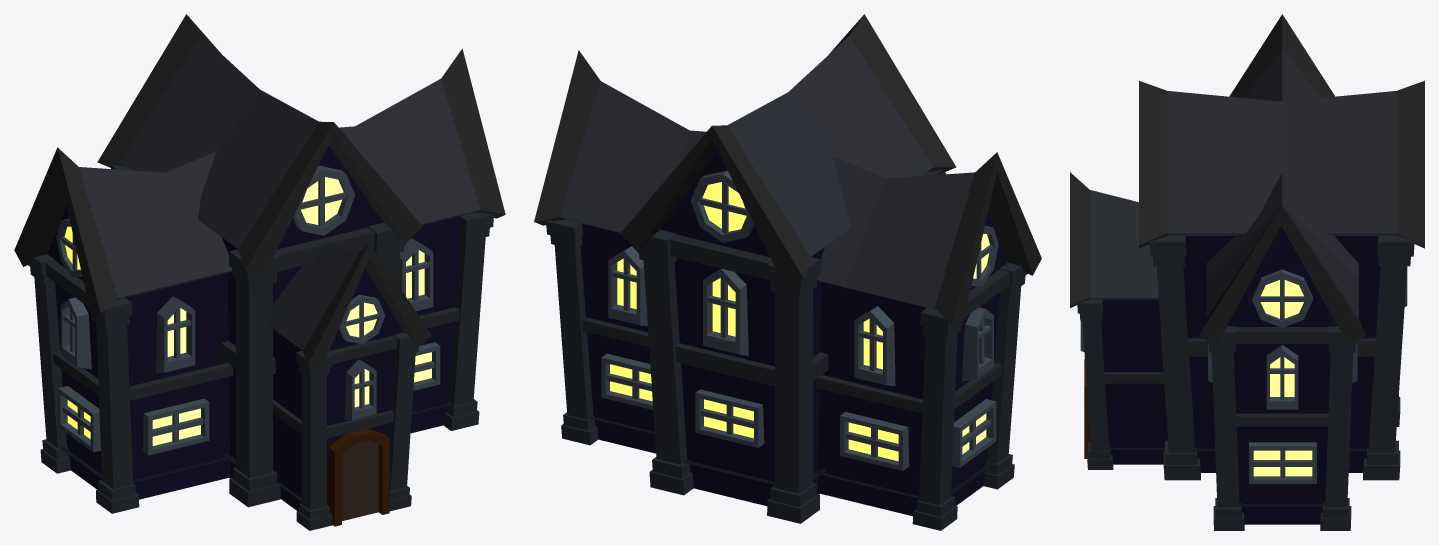
File: CasaGoticaVariante1_Casa04.fbx
3 renders of one model, left to right at view 1: azimuth 30°, elevation 25°; view 2: azimuth 150°, elevation 25°; view 3: azimuth 270°, elevation 25°, orthographic. The views are drawn at different scales.
Visible parts, largest first — view 1: Teto04, Pilar04, Parede04, JanelaMolde04, Divisao04, JanelaFundo04, Porta04, PortaContorno04, Base04; view 2: Teto04, Parede04, Pilar04, JanelaMolde04, Divisao04, JanelaFundo04, Base04; view 3: Teto04, Parede04, Pilar04, JanelaMolde04, Divisao04, JanelaFundo04, Base04.
Part boxes in pixels (x1,y1,x2,y2): Teto04: (14,14,505,370); Pilar04: (28,164,493,530); Parede04: (47,145,460,510); JanelaMolde04: (56,165,440,455); Divisao04: (45,227,459,438); JanelaFundo04: (64,177,431,445); Porta04: (342,440,378,520); PortaContorno04: (327,428,389,526); Base04: (59,403,452,500); Teto04: (534,14,1041,327); Parede04: (580,150,1007,516); Pilar04: (546,169,1027,530); JanelaMolde04: (601,171,998,470); Divisao04: (582,234,1009,413); JanelaFundo04: (610,182,989,461); Base04: (589,416,995,498); Teto04: (1070,14,1424,345); Parede04: (1101,227,1380,524); Pilar04: (1077,235,1414,530); JanelaMolde04: (1080,268,1407,483); Divisao04: (1104,327,1375,426); JanelaFundo04: (1253,280,1312,476); Base04: (1109,448,1368,506).
Size of the model in its own units: 2497 by 2224 by 1956.
